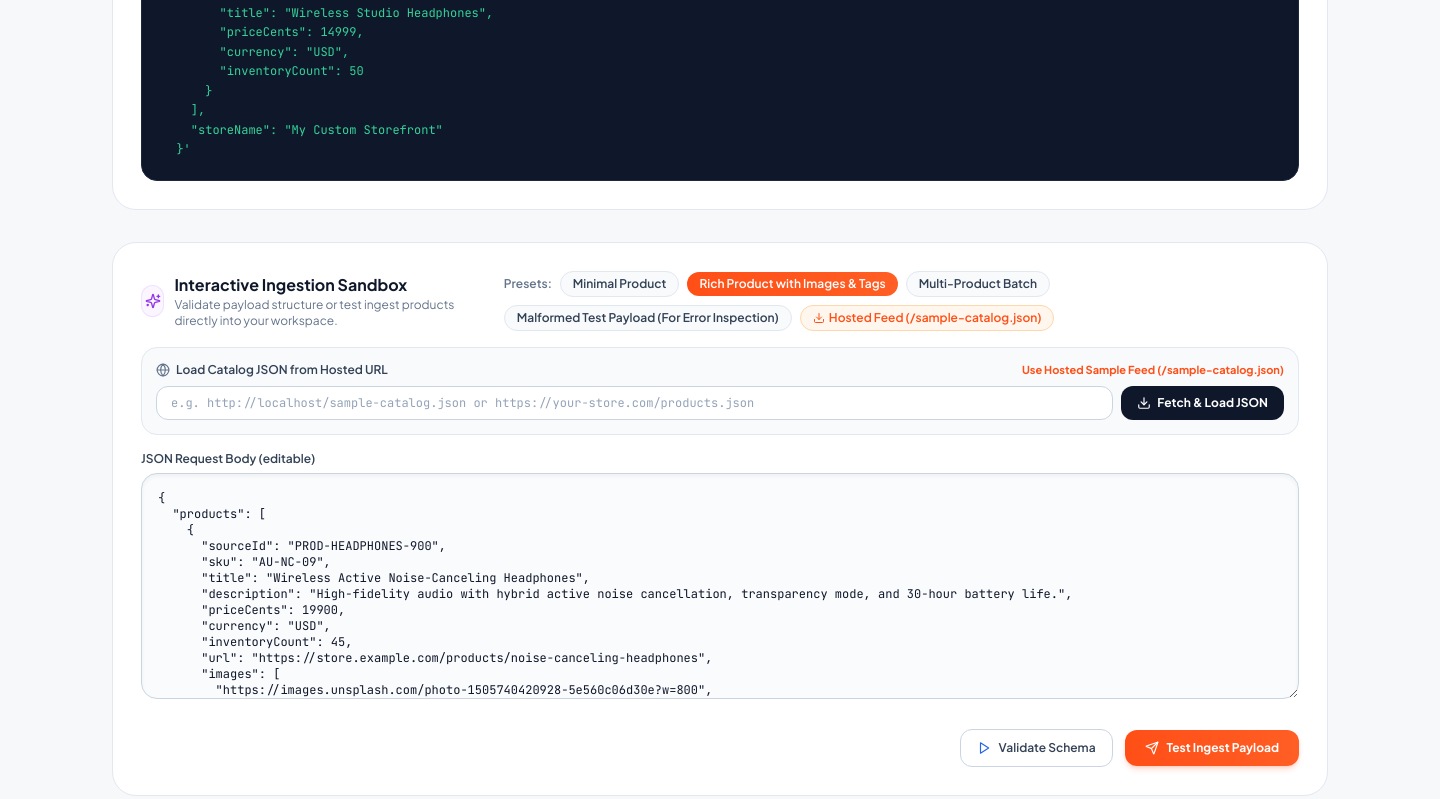
Test case: DeveloperIntegrationsPage › displays the live hosted JSON URL and loads JSON from hosted URL into sandbox
This screenshot has width=1440, height=799.
(page scrolled)
Check: the text "Load Catalog JSON from Hosted URL" is shown, box [176, 362, 388, 378]
Check: the text "Fetch & Load JSON" is shown, box [1157, 395, 1268, 411]
// Click "Fetch & Load JSON"
Click the button "Fetch & Load JSON". click: point(1203, 403)
box: [1121, 386, 1284, 420]
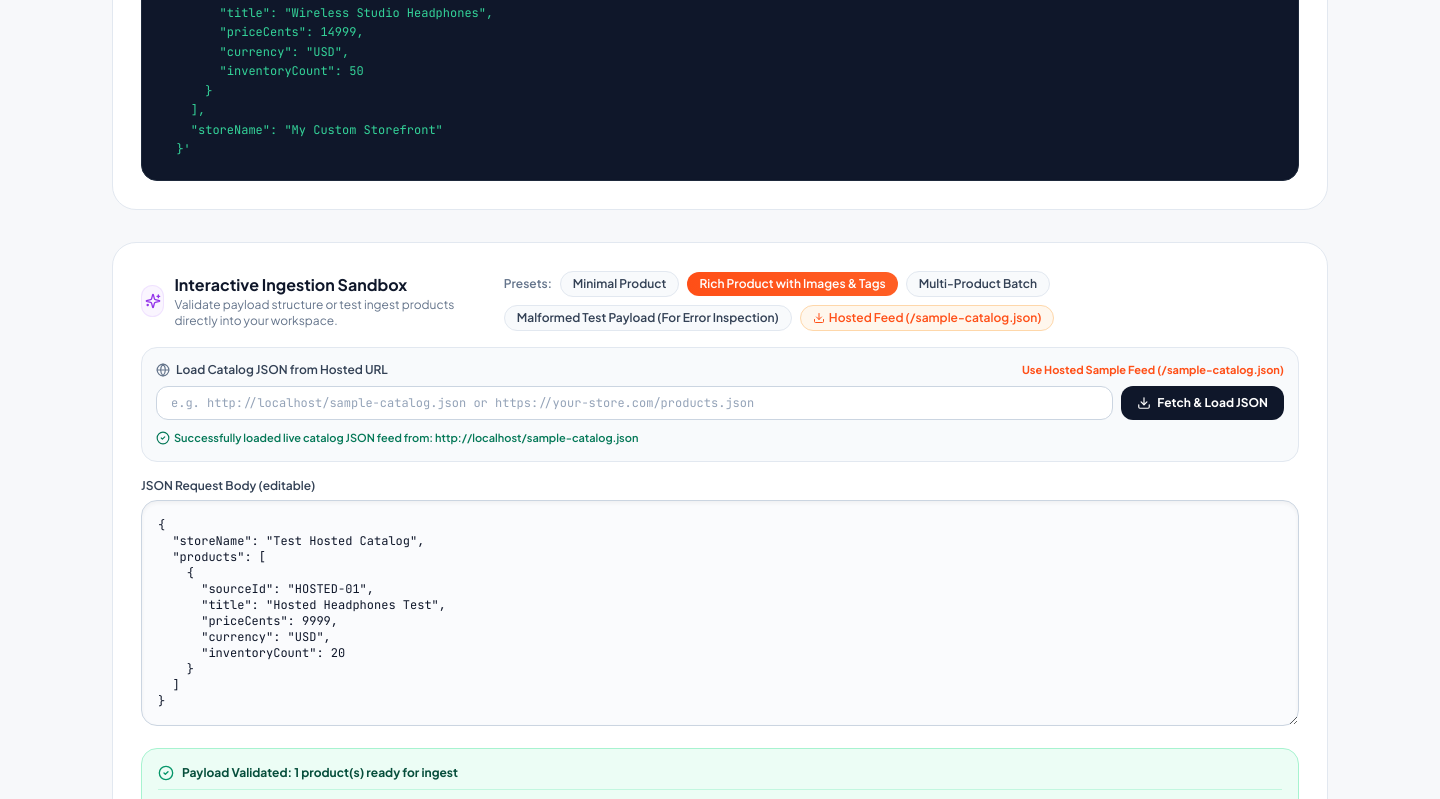
Check: the text "Successfully loaded live catalog JSON feed from:" is shown, box [174, 431, 638, 444]
